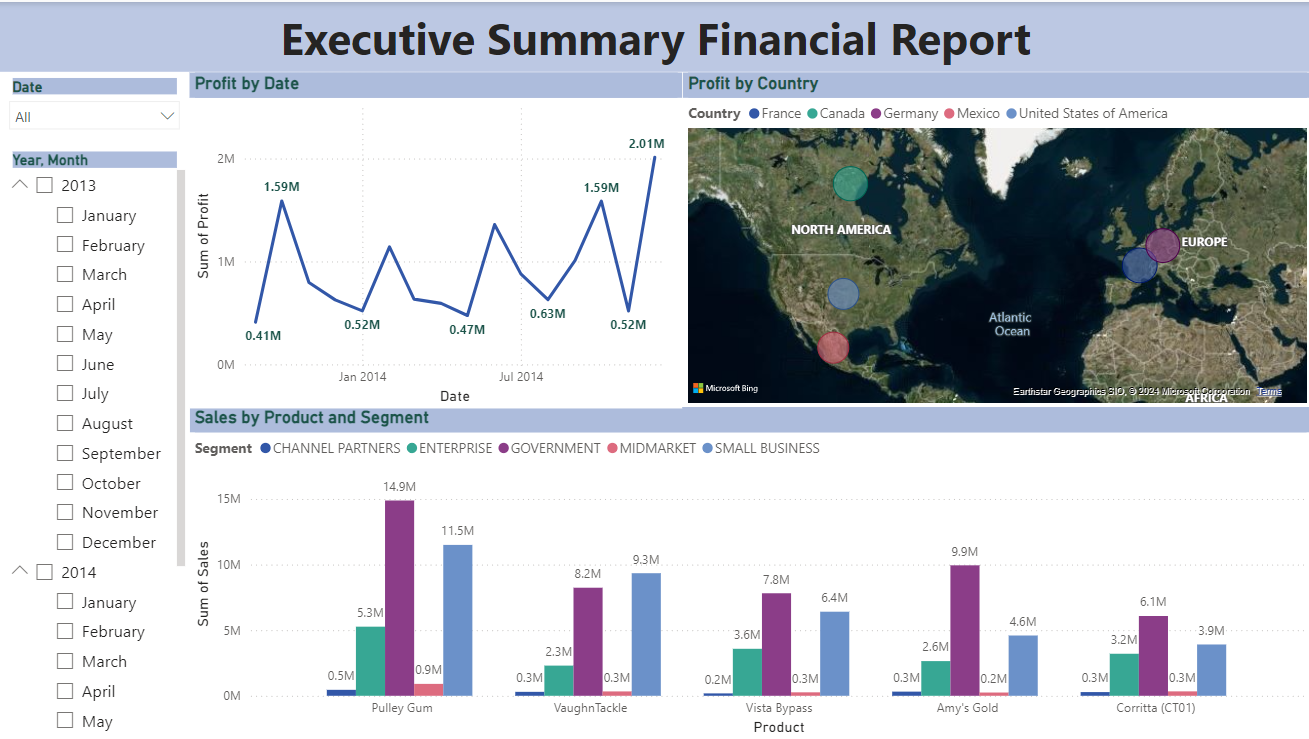

What the dashboard file says about the page in this screenshot:
{"tool":"powerbi","page":{"name":"Page 1","canvas":[1280,720],"ordinal":0},"visuals":[{"type":"textbox","box":[0,0,1279.4,68],"z":0},{"type":"map","title":"Profit by Country","fields":{"Size":["Sum(Sheet1.Profit)"],"Category":["Sheet1.Country"],"Series":["Sheet1.Country"]},"box":[666.3,68.1,613.3,327.1],"z":1000},{"type":"clusteredColumnChart","title":"Sales by Product and Segment","fields":{"Y":["Sum(Sheet1. Sales)"],"Category":["Sheet1.Product"],"Series":["Sheet1.Segment"]},"box":[186.2,395.2,1093.3,324],"z":2000},{"type":"slicer","fields":{"Values":["Sheet1.Date"]},"box":[0,68.1,186.2,72.7],"z":3000},{"type":"slicer","fields":{"Values":["Calendar.Date.Variation.Date Hierarchy.Year","Calendar.Date.Variation.Date Hierarchy.Month"]},"box":[0,140.8,186.2,578.4],"z":4000},{"type":"lineChart","title":"Profit by Date","fields":{"Y":["Sum(Sheet1.Profit)"],"Category":["Calendar.Date"]},"box":[186.2,68.1,480,327.1],"z":4001}]}

Visuals, with their boxes in screenshot pixels (x1, y1, x2, y2), scaled from the page's 1280x720 canvas onto the 1309x739 screenshot:
textbox: box=[0, 0, 1308, 70]
"Profit by Country" map: box=[681, 70, 1308, 406]
"Sales by Product and Segment" clusteredColumnChart: box=[190, 406, 1308, 738]
slicer - Sheet1.Date: box=[0, 70, 190, 145]
slicer - Calendar.Date.Variation.Date Hierarchy.Year x Calendar.Date.Variation.Date Hierarchy.Month: box=[0, 145, 190, 738]
"Profit by Date" lineChart: box=[190, 70, 681, 406]
